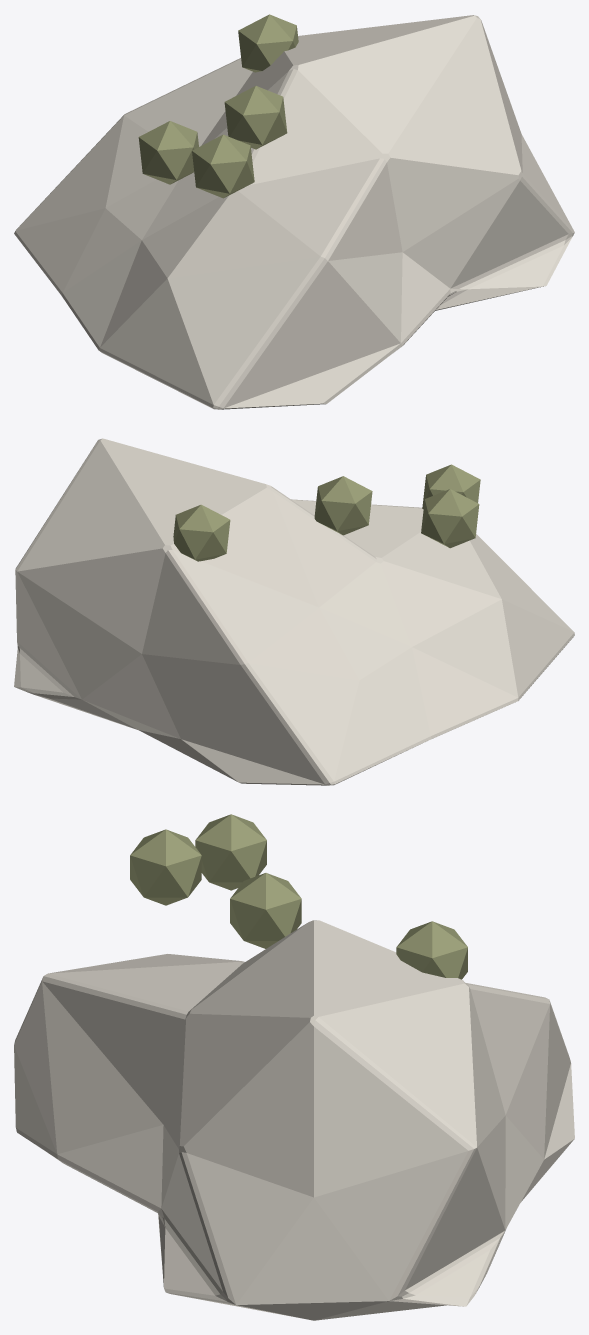
File: RockA.fbx
3 renders of one model, top to bottom at view 1: azimuth 30°, elevation 25°; view 2: azimuth 150°, elevation 25°; view 3: azimuth 270°, elevation 25°, orthographic. The views are drawn at different scales.
Parts seen in each view (by area): view 1: RockA; view 2: RockA; view 3: RockA.
Part boxes in pixels (x1,y1,x2,y2): RockA: (14,14,574,409); RockA: (14,438,574,785); RockA: (14,814,574,1320).
Size of the model in its own units: 1.25 by 0.5931 by 1.06.
